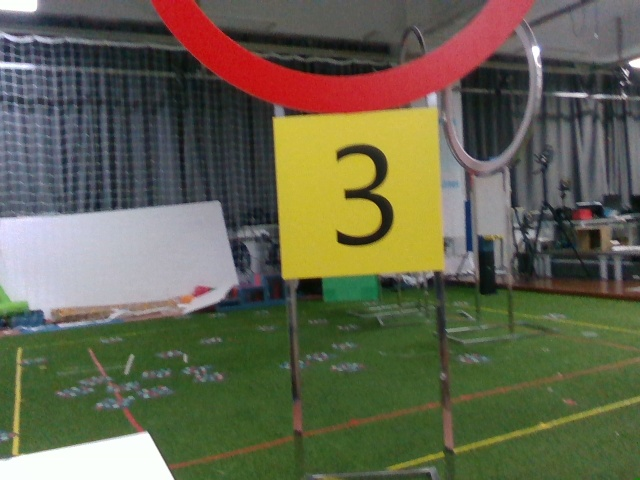target: (279, 113, 436, 273)
